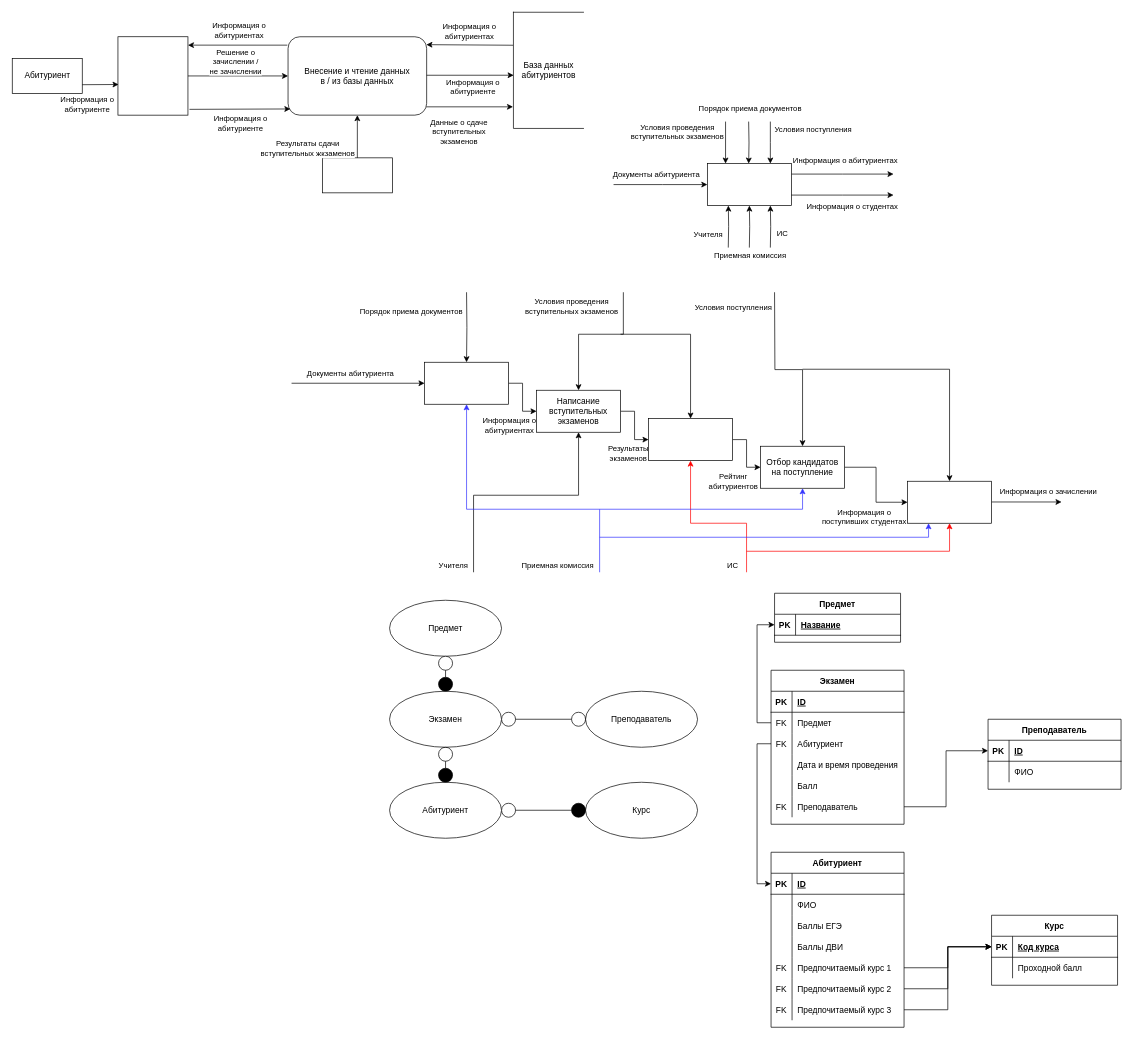
Some shapes in this 1133 by 1040 pixel diagram are drawn without their labels. The centre of each missing label's shape, as x and y in pixels:
"Зачисление студентов" goes at [949,502].
"Подача документов" goes at [466,383].
"Процесс поступления" goes at [749,184].
"Работник приемной комиссии" goes at [152,75].
"Составление рейтинга абитуриентов" goes at [690,439].
"Учитель" goes at [357,175].
